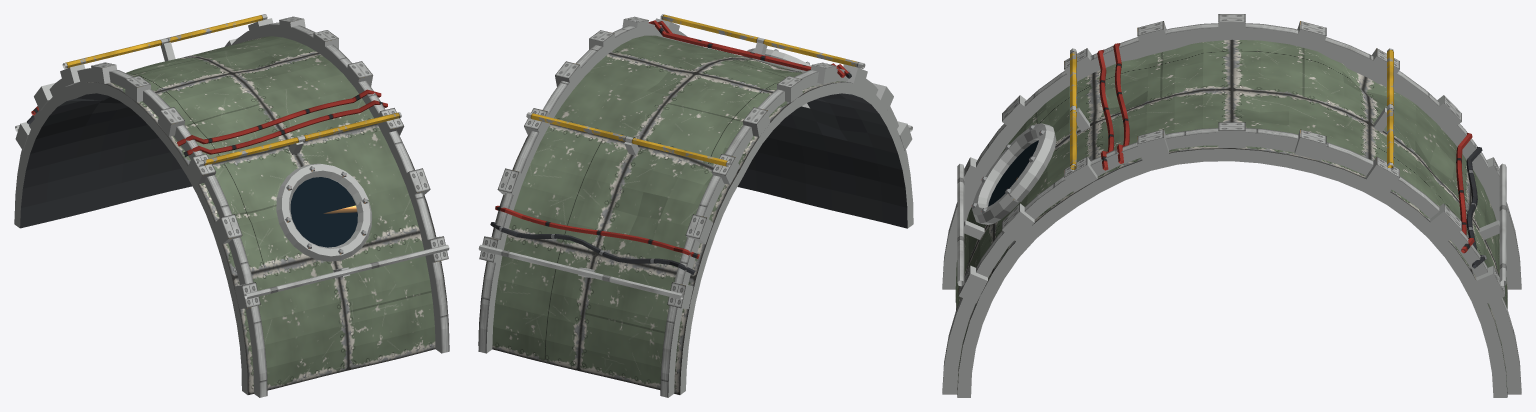
Rendered from hull_porthole_green.fbx.
The picture shows the model from 3 angles, left to right: view 1: azimuth 30°, elevation 25°; view 2: azimuth 150°, elevation 25°; view 3: azimuth 270°, elevation 25°; orthographic projection. The views are drawn at different scales.
Parts seen in each view (by area): view 1: hull_porthole_green; view 2: hull_porthole_green; view 3: hull_porthole_green.
Boxes of the visible parts, x1,y1,x2,y2 form: hull_porthole_green: [14, 14, 449, 397]; hull_porthole_green: [478, 14, 913, 397]; hull_porthole_green: [942, 14, 1521, 397].
Size of the model in its own units: 1.01 by 1.07 by 2.1.
1 material, 1 textured.
